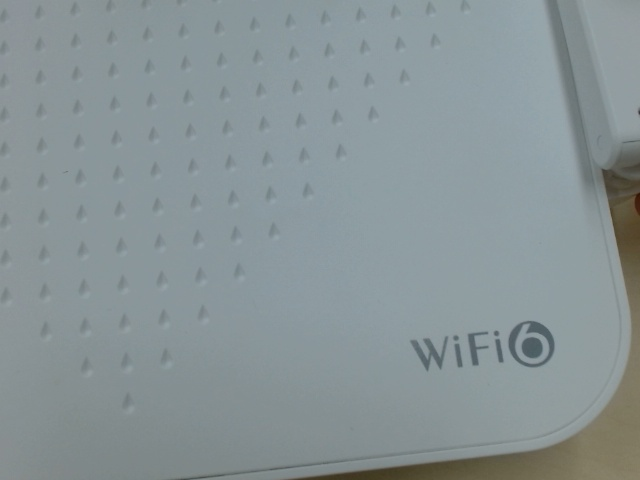AK_ZTEWIFI6: (403, 318, 563, 377)
